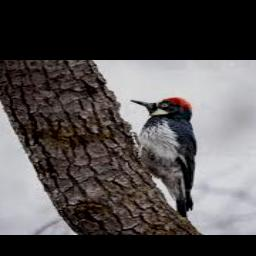Woodpecker: (129, 97, 196, 218)
